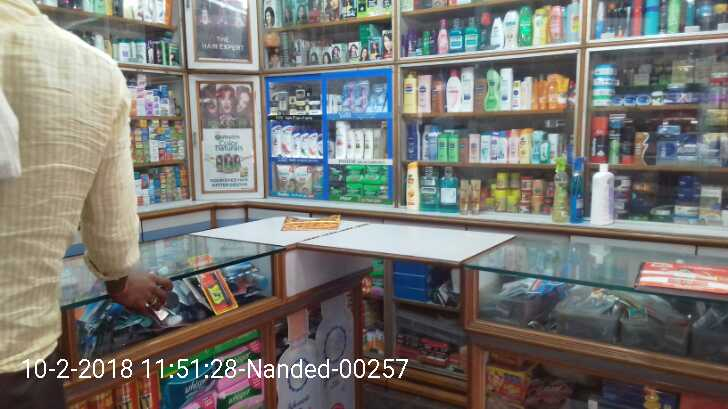gillete: (591, 117, 608, 161), (621, 126, 636, 162), (610, 119, 620, 165)
venus: (371, 81, 387, 109), (343, 81, 357, 110), (357, 81, 371, 109)
